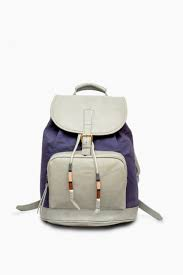backpack: (16, 83, 163, 227)
